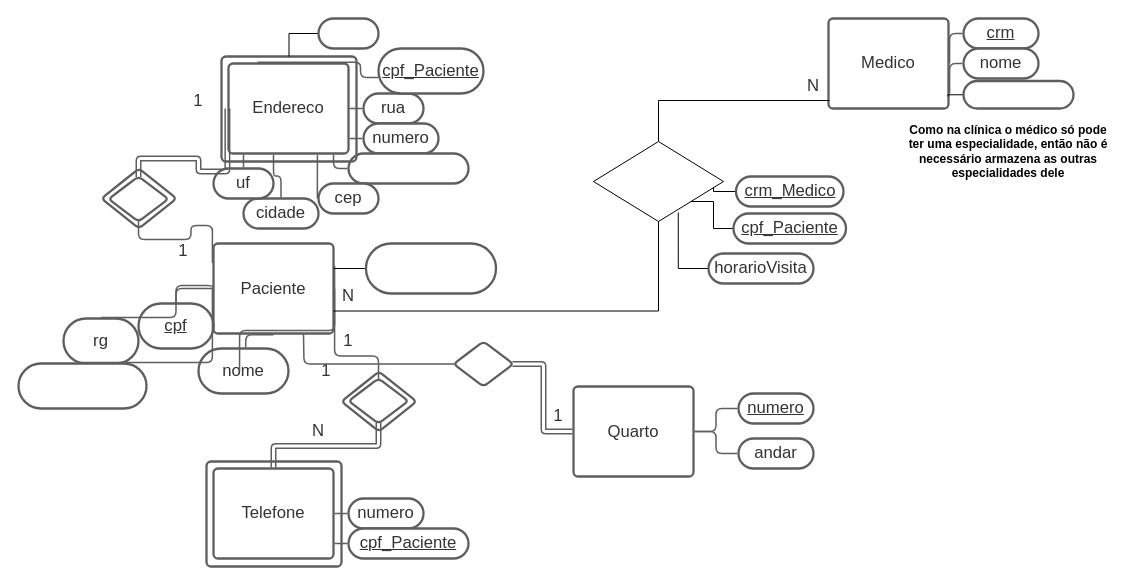
Some shapes in this 1131 by 585 pixel diagram are drawn without their labels. Each missing label, with the centre of its shape:
"bairro" belongs at (x=348, y=33).
"complemento" belongs at (x=408, y=168).
"dataNascimento" belongs at (x=82, y=385).
"especialidade" belongs at (x=1018, y=94).
"numero_Quarto" belongs at (x=430, y=268).
"Tratamento" belongs at (x=658, y=181).
